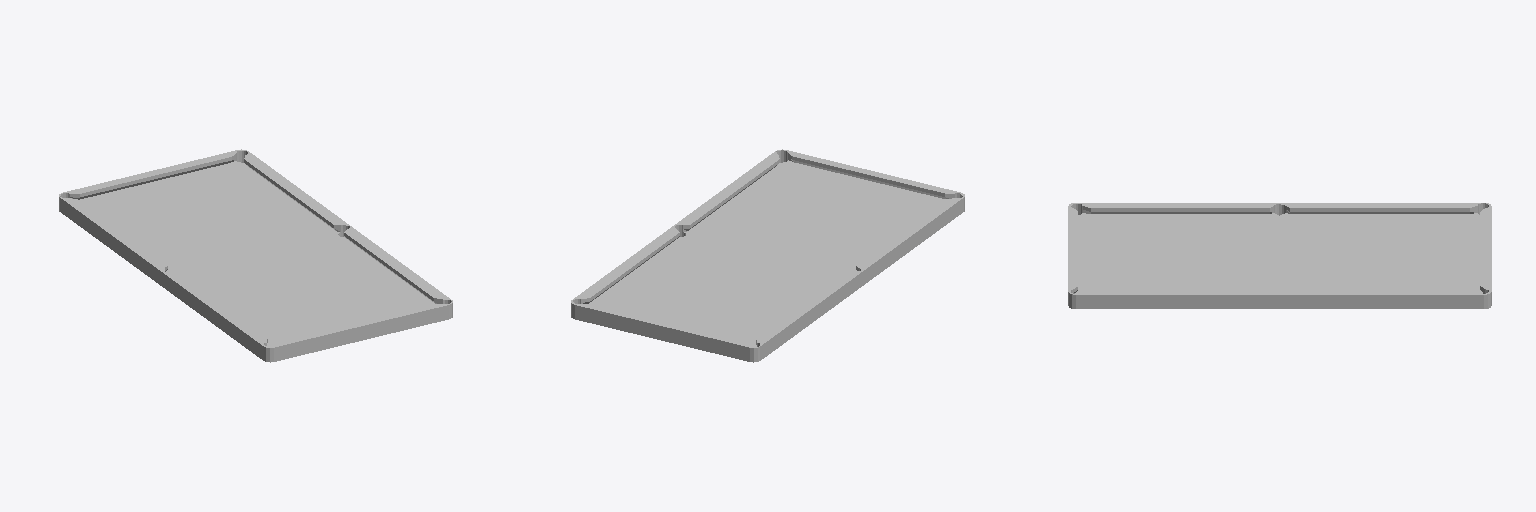
File: table_pool [table].obj
3 views of the same model, side by side, from view 1: azimuth 30°, elevation 25°; view 2: azimuth 150°, elevation 25°; view 3: azimuth 270°, elevation 25° (orthographic).
Visible parts, largest first — view 1: table_Cube; view 2: table_Cube; view 3: table_Cube.
Boxes of the visible parts, x1,y1,x2,y2 form: table_Cube: [59, 149, 452, 362]; table_Cube: [571, 149, 964, 362]; table_Cube: [1068, 203, 1491, 308].
Size of the model in its own units: 1.36 by 0.1 by 2.64.